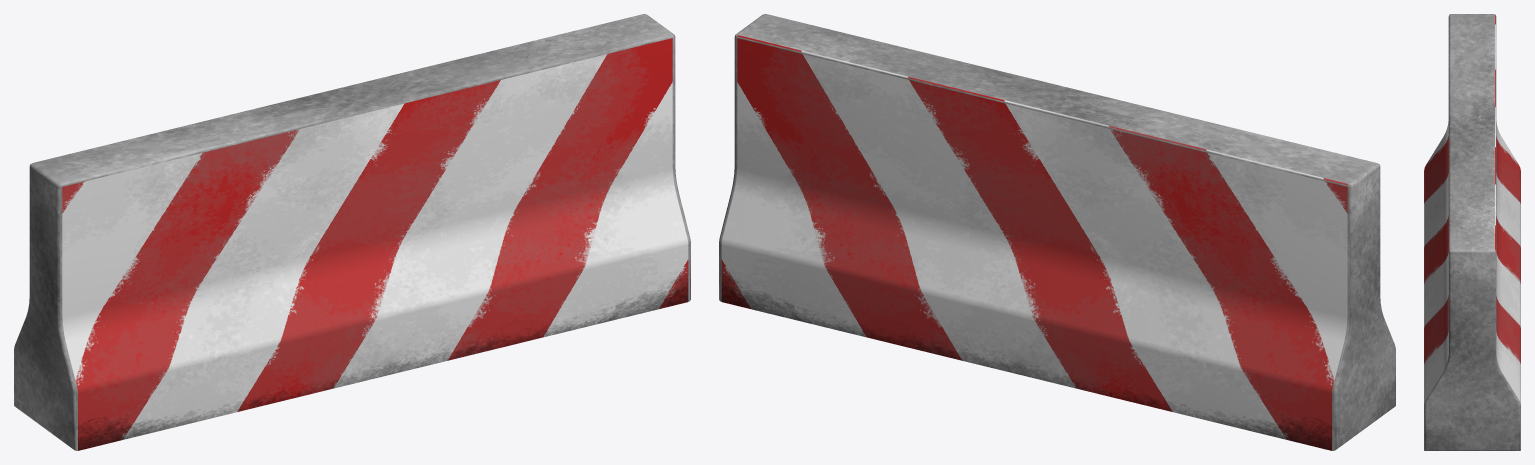
File: Concrete_Construction_Barrier.fbx
3 views of the same model, side by side, from view 1: azimuth 30°, elevation 25°; view 2: azimuth 150°, elevation 25°; view 3: azimuth 270°, elevation 25° (orthographic). The views are drawn at different scales.
Parts seen in each view (by area): view 1: Barrier_Concrete_LOD_0; view 2: Barrier_Concrete_LOD_0; view 3: Barrier_Concrete_LOD_0.
Boxes of the visible parts, bbox=[...] form: Barrier_Concrete_LOD_0: bbox=[14, 14, 690, 450]; Barrier_Concrete_LOD_0: bbox=[719, 14, 1395, 450]; Barrier_Concrete_LOD_0: bbox=[1424, 14, 1520, 450].
Bounding box in the file's own units: 639 × 252 × 110.
2 materials, 2 textured.
